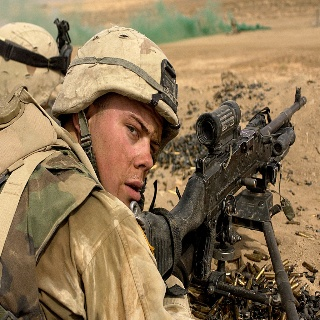rifle: (130, 84, 309, 320)
